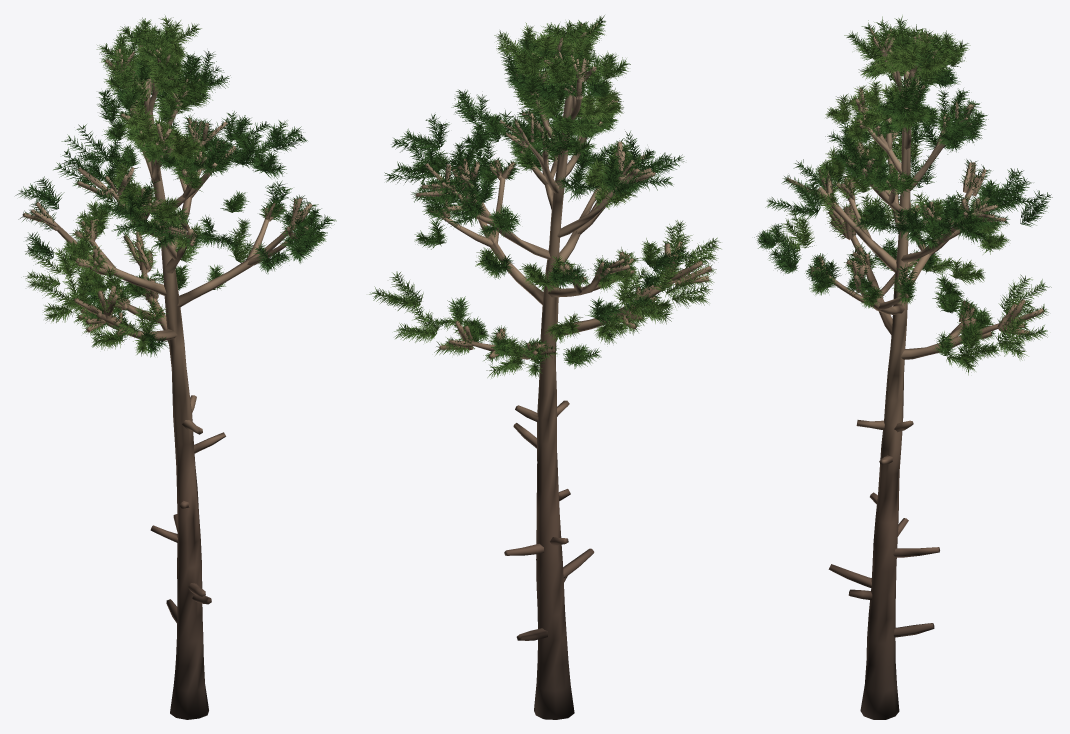
The model's file is PineTree_05.glb.
3 views of the same model, side by side, from view 1: azimuth 30°, elevation 25°; view 2: azimuth 150°, elevation 25°; view 3: azimuth 270°, elevation 25° (orthographic). The views are drawn at different scales.
Visible parts, largest first — view 1: PineTree_05; view 2: PineTree_05; view 3: PineTree_05.
Boxes of the visible parts, x1,y1,x2,y2 form: PineTree_05: (15,15,336,719); PineTree_05: (369,15,721,719); PineTree_05: (754,15,1052,719).
Bounding box in the file's own units: 7.05 × 15.84 × 6.41.
